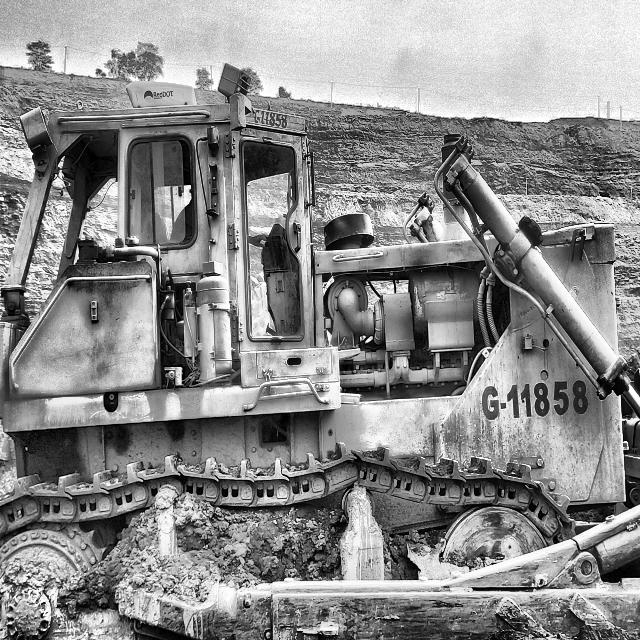buldozerpayloadergrader: (0, 67, 640, 640)
